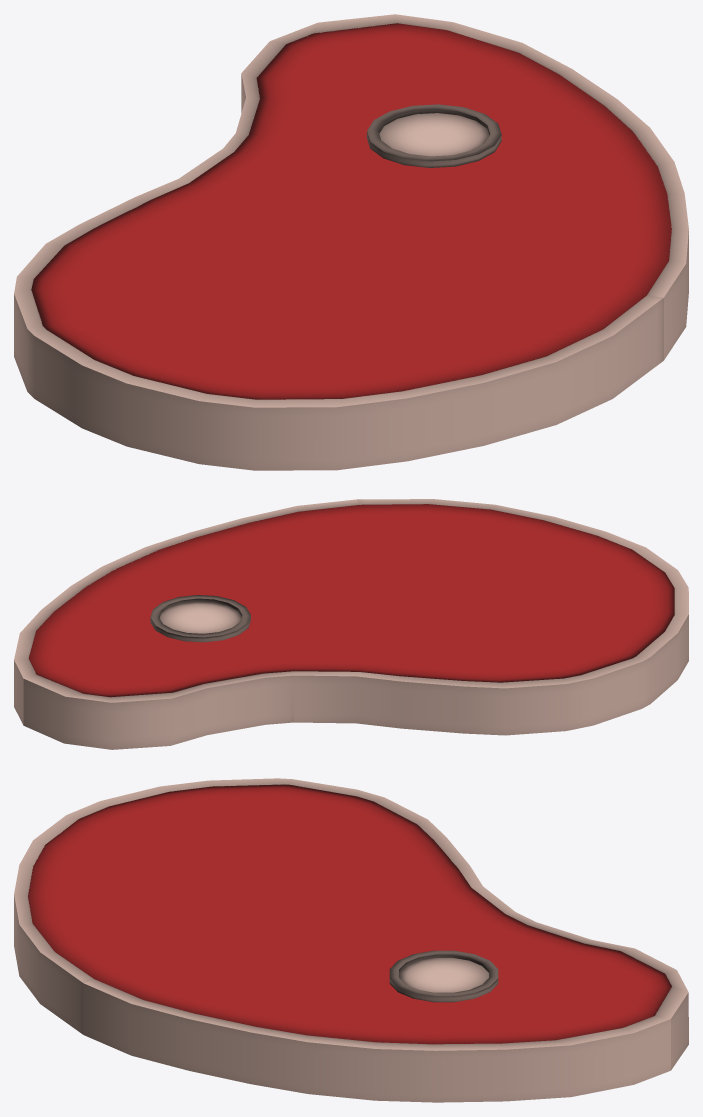
Rendered from stake.fbx.
3 renders of one model, top to bottom at view 1: azimuth 30°, elevation 25°; view 2: azimuth 150°, elevation 25°; view 3: azimuth 270°, elevation 25°, orthographic. The views are drawn at different scales.
Parts seen in each view (by area): view 1: Plane; view 2: Plane; view 3: Plane.
Boxes of the visible parts, x1,y1,x2,y2 form: Plane: (14, 14, 688, 470); Plane: (14, 499, 688, 749); Plane: (14, 778, 688, 1102).
Size of the model in its own units: 161 by 17.12 by 169.
